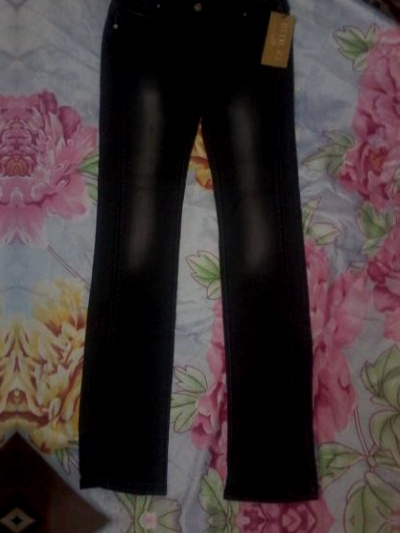Pants: (62, 0, 325, 503)
